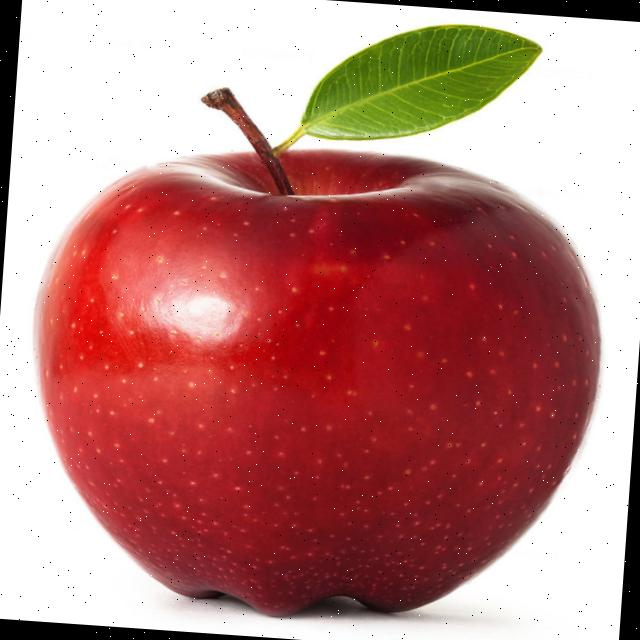Apel: (12, 124, 616, 638)
